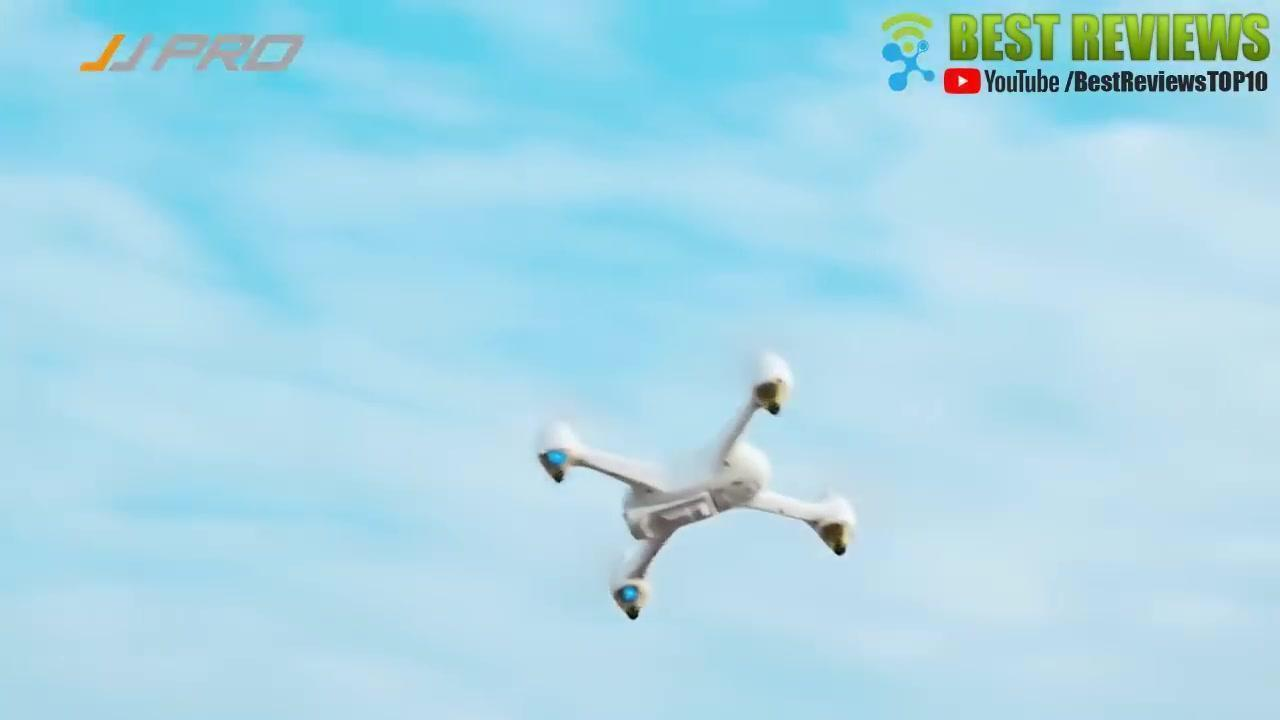UAV: (538, 350, 857, 620)
